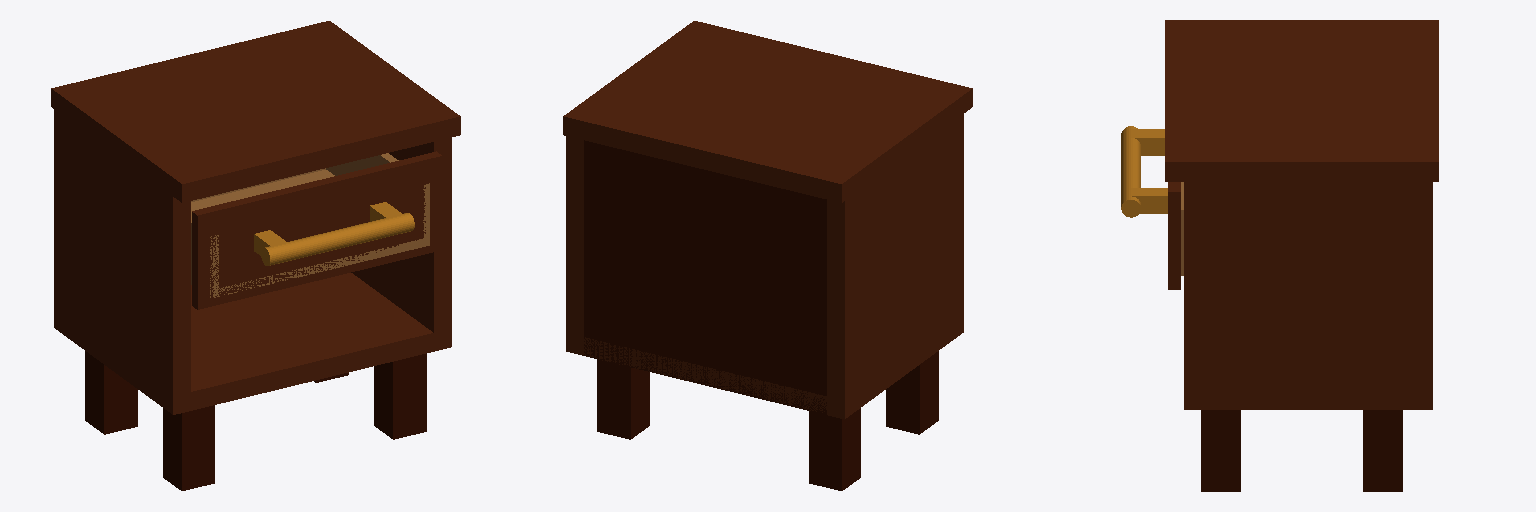
URDF robot description (single_drawer_bedside_cabinet_080):
<?xml version="1.0"?>
<!--
Copyright (c) 2021-2026 DexForce Technology Co., Ltd.

Licensed under the Apache License, Version 2.0 (the "License");
you may not use this file except in compliance with the License.
You may obtain a copy of the License at

    http://www.apache.org/licenses/LICENSE-2.0

Unless required by applicable law or agreed to in writing, software
distributed under the License is distributed on an "AS IS" BASIS,
WITHOUT WARRANTIES OR CONDITIONS OF ANY KIND, either express or implied.
See the License for the specific language governing permissions and
limitations under the License.
-->
<!-- Derived from Drawer/model_split_links_with_inertials.urdf; uniform 0.8 scale
     is baked into geometry, origins, prismatic limits and inertias. -->
<robot name="single_drawer_bedside_cabinet_080">
  <material name="walnut">
    <color rgba="0.34 0.16 0.075 1" />
  </material>
  <material name="walnut_edge">
    <color rgba="0.24 0.095 0.038 1" />
  </material>
  <material name="drawer_inside">
    <color rgba="0.61 0.43 0.25 1" />
  </material>
  <material name="matte_brass">
    <color rgba="0.72 0.49 0.16 1" />
  </material>
  <material name="rail_steel">
    <color rgba="0.28 0.3 0.31 1" />
  </material>
  <link name="cabinet">
    <inertial>
      <origin xyz="-2.545768e-18 0.02649432 0.2864608" rpy="0 0 0" />
      <mass value="0.1" />
      <inertia ixx="0.003087104" ixy="1.8333888e-19" ixz="-9.96192e-19" iyy="0.0043922688" iyz="1.3445696e-05" izz="0.0034588096" />
    </inertial>
  </link>
  <link name="drawer">
    <inertial>
      <origin xyz="0 0.0988808 -0.02205384" rpy="0 0 0" />
      <mass value="0.1" />
      <inertia ixx="0.0011696448" ixy="2.8627328e-22" ixz="3.5896e-20" iyy="0.0014591552" iyz="8.812928e-05" izz="0.0023881024" />
    </inertial>
  </link>
  <joint name="cabinet_to_drawer" type="prismatic">
    <origin xyz="0 -0.164 0.356" rpy="0 0 0" />
    <parent link="cabinet" />
    <child link="drawer" />
    <axis xyz="0 -1 0" />
    <limit effort="90" velocity="0.28" lower="0" upper="0.228" />
    <dynamics damping="2" friction="1" />
  </joint>
  <link name="top">
    <visual name="top">
      <origin xyz="0 0 0" rpy="0 0 0" />
      <geometry>
        <box size="0.432 0.352 0.028" />
      </geometry>
      <material name="walnut" />
    </visual>
    <collision name="top">
      <origin xyz="0 0 0" rpy="0 0 0" />
      <geometry>
        <box size="0.432 0.352 0.028" />
      </geometry>
    </collision>
    <inertial>
      <origin rpy="0 0 0" xyz="0 0 0" />
      <mass value="0.1" />
      <inertia ixx="0.00103906666667" ixy="0" ixz="0" iyy="0.00156173333333" iyz="0" izz="0.00258773333333" />
    </inertial>
  </link>
  <joint name="cabinet_to_top_fixed" type="fixed">
    <origin xyz="0 0 0.466" rpy="0 0 0" />
    <parent link="cabinet" />
    <child link="top" />
  </joint>
  <link name="side_0">
    <visual name="side_0">
      <origin xyz="0 0 0" rpy="0 0 0" />
      <geometry>
        <box size="0.028 0.32 0.324" />
      </geometry>
      <material name="walnut" />
    </visual>
    <collision name="side_0">
      <origin xyz="0 0 0" rpy="0 0 0" />
      <geometry>
        <box size="0.028 0.32 0.324" />
      </geometry>
    </collision>
    <inertial>
      <origin rpy="0 0 0" xyz="0 0 0" />
      <mass value="0.1" />
      <inertia ixx="0.00172813333333" ixy="0" ixz="0" iyy="0.000881333333331" iyz="0" izz="0.000859866666669" />
    </inertial>
  </link>
  <joint name="cabinet_to_side_0_fixed" type="fixed">
    <origin xyz="-0.202 0.008 0.29" rpy="0 0 0" />
    <parent link="cabinet" />
    <child link="side_0" />
  </joint>
  <link name="side_1">
    <visual name="side_1">
      <origin xyz="0 0 0" rpy="0 0 0" />
      <geometry>
        <box size="0.028 0.32 0.324" />
      </geometry>
      <material name="walnut" />
    </visual>
    <collision name="side_1">
      <origin xyz="0 0 0" rpy="0 0 0" />
      <geometry>
        <box size="0.028 0.32 0.324" />
      </geometry>
    </collision>
    <inertial>
      <origin rpy="0 0 0" xyz="0 0 0" />
      <mass value="0.1" />
      <inertia ixx="0.00172813333333" ixy="0" ixz="0" iyy="0.000881333333331" iyz="0" izz="0.000859866666669" />
    </inertial>
  </link>
  <joint name="cabinet_to_side_1_fixed" type="fixed">
    <origin xyz="0.202 0.008 0.29" rpy="0 0 0" />
    <parent link="cabinet" />
    <child link="side_1" />
  </joint>
  <link name="back">
    <visual name="back">
      <origin xyz="0 0 0" rpy="0 0 0" />
      <geometry>
        <box size="0.376 0.02 0.324" />
      </geometry>
      <material name="walnut_edge" />
    </visual>
    <collision name="back">
      <origin xyz="0 0 0" rpy="0 0 0" />
      <geometry>
        <box size="0.376 0.02 0.324" />
      </geometry>
    </collision>
    <inertial>
      <origin rpy="0 0 0" xyz="0 0 0" />
      <mass value="0.1" />
      <inertia ixx="0.000878133333331" ixy="0" ixz="0" iyy="0.00205293333333" iyz="0" izz="0.00118146666667" />
    </inertial>
  </link>
  <joint name="cabinet_to_back_fixed" type="fixed">
    <origin xyz="0 0.158 0.29" rpy="0 0 0" />
    <parent link="cabinet" />
    <child link="back" />
  </joint>
  <link name="base_shelf">
    <visual name="base_shelf">
      <origin xyz="0 0 0" rpy="0 0 0" />
      <geometry>
        <box size="0.376 0.32 0.028" />
      </geometry>
      <material name="walnut" />
    </visual>
    <collision name="base_shelf">
      <origin xyz="0 0 0" rpy="0 0 0" />
      <geometry>
        <box size="0.376 0.32 0.028" />
      </geometry>
    </collision>
    <inertial>
      <origin rpy="0 0 0" xyz="0 0 0" />
      <mass value="0.1" />
      <inertia ixx="0.000859866666669" ixy="0" ixz="0" iyy="0.00118466666667" iyz="0" izz="0.00203146666667" />
    </inertial>
  </link>
  <joint name="cabinet_to_base_shelf_fixed" type="fixed">
    <origin xyz="0 0.008 0.142" rpy="0 0 0" />
    <parent link="cabinet" />
    <child link="base_shelf" />
  </joint>
  <link name="foot_0">
    <visual name="foot_0">
      <origin xyz="0 0 0" rpy="0 0 0" />
      <geometry>
        <box size="0.052 0.052 0.128" />
      </geometry>
      <material name="walnut_edge" />
    </visual>
    <collision name="foot_0">
      <origin xyz="0 0 0" rpy="0 0 0" />
      <geometry>
        <box size="0.052 0.052 0.128" />
      </geometry>
    </collision>
    <inertial>
      <origin rpy="0 0 0" xyz="0 0 0" />
      <mass value="0.1" />
      <inertia ixx="0.000159066666667" ixy="0" ixz="0" iyy="0.000159066666667" iyz="0" izz="4.50666666667e-05" />
    </inertial>
  </link>
  <joint name="cabinet_to_foot_0_fixed" type="fixed">
    <origin xyz="-0.164 -0.104 0.064" rpy="0 0 0" />
    <parent link="cabinet" />
    <child link="foot_0" />
  </joint>
  <link name="foot_1">
    <visual name="foot_1">
      <origin xyz="0 0 0" rpy="0 0 0" />
      <geometry>
        <box size="0.052 0.052 0.128" />
      </geometry>
      <material name="walnut_edge" />
    </visual>
    <collision name="foot_1">
      <origin xyz="0 0 0" rpy="0 0 0" />
      <geometry>
        <box size="0.052 0.052 0.128" />
      </geometry>
    </collision>
    <inertial>
      <origin rpy="0 0 0" xyz="0 0 0" />
      <mass value="0.1" />
      <inertia ixx="0.000159066666667" ixy="0" ixz="0" iyy="0.000159066666667" iyz="0" izz="4.50666666667e-05" />
    </inertial>
  </link>
  <joint name="cabinet_to_foot_1_fixed" type="fixed">
    <origin xyz="0.164 -0.104 0.064" rpy="0 0 0" />
    <parent link="cabinet" />
    <child link="foot_1" />
  </joint>
  <link name="foot_2">
    <visual name="foot_2">
      <origin xyz="0 0 0" rpy="0 0 0" />
      <geometry>
        <box size="0.052 0.052 0.128" />
      </geometry>
      <material name="walnut_edge" />
    </visual>
    <collision name="foot_2">
      <origin xyz="0 0 0" rpy="0 0 0" />
      <geometry>
        <box size="0.052 0.052 0.128" />
      </geometry>
    </collision>
    <inertial>
      <origin rpy="0 0 0" xyz="0 0 0" />
      <mass value="0.1" />
      <inertia ixx="0.000159066666667" ixy="0" ixz="0" iyy="0.000159066666667" iyz="0" izz="4.50666666667e-05" />
    </inertial>
  </link>
  <joint name="cabinet_to_foot_2_fixed" type="fixed">
    <origin xyz="-0.164 0.104 0.064" rpy="0 0 0" />
    <parent link="cabinet" />
    <child link="foot_2" />
  </joint>
  <link name="foot_3">
    <visual name="foot_3">
      <origin xyz="0 0 0" rpy="0 0 0" />
      <geometry>
        <box size="0.052 0.052 0.128" />
      </geometry>
      <material name="walnut_edge" />
    </visual>
    <collision name="foot_3">
      <origin xyz="0 0 0" rpy="0 0 0" />
      <geometry>
        <box size="0.052 0.052 0.128" />
      </geometry>
    </collision>
    <inertial>
      <origin rpy="0 0 0" xyz="0 0 0" />
      <mass value="0.1" />
      <inertia ixx="0.000159066666667" ixy="0" ixz="0" iyy="0.000159066666667" iyz="0" izz="4.50666666667e-05" />
    </inertial>
  </link>
  <joint name="cabinet_to_foot_3_fixed" type="fixed">
    <origin xyz="0.164 0.104 0.064" rpy="0 0 0" />
    <parent link="cabinet" />
    <child link="foot_3" />
  </joint>
  <link name="runner_0">
    <visual name="runner_0">
      <origin xyz="0 0 0" rpy="0 0 0" />
      <geometry>
        <box size="0.0192 0.248 0.02" />
      </geometry>
      <material name="rail_steel" />
    </visual>
    <collision name="runner_0">
      <origin xyz="0 0 0" rpy="0 0 0" />
      <geometry>
        <box size="0.0192 0.248 0.02" />
      </geometry>
    </collision>
    <inertial>
      <origin rpy="0 0 0" xyz="0 0 0" />
      <mass value="0.1" />
      <inertia ixx="0.000515866666667" ixy="0" ixz="0" iyy="6.40533333331e-06" iyz="0" izz="0.000515605333333" />
    </inertial>
  </link>
  <joint name="cabinet_to_runner_0_fixed" type="fixed">
    <origin xyz="-0.1784 0.02 0.292" rpy="0 0 0" />
    <parent link="cabinet" />
    <child link="runner_0" />
  </joint>
  <link name="runner_1">
    <visual name="runner_1">
      <origin xyz="0 0 0" rpy="0 0 0" />
      <geometry>
        <box size="0.0192 0.248 0.02" />
      </geometry>
      <material name="rail_steel" />
    </visual>
    <collision name="runner_1">
      <origin xyz="0 0 0" rpy="0 0 0" />
      <geometry>
        <box size="0.0192 0.248 0.02" />
      </geometry>
    </collision>
    <inertial>
      <origin rpy="0 0 0" xyz="0 0 0" />
      <mass value="0.1" />
      <inertia ixx="0.000515866666667" ixy="0" ixz="0" iyy="6.40533333331e-06" iyz="0" izz="0.000515605333333" />
    </inertial>
  </link>
  <joint name="cabinet_to_runner_1_fixed" type="fixed">
    <origin xyz="0.1784 0.02 0.292" rpy="0 0 0" />
    <parent link="cabinet" />
    <child link="runner_1" />
  </joint>
  <link name="drawer_front">
    <visual name="drawer_front">
      <origin xyz="0 0 0" rpy="0 0 0" />
      <geometry>
        <box size="0.38 0.016 0.14" />
      </geometry>
      <material name="walnut" />
    </visual>
    <collision name="drawer_front">
      <origin xyz="0 0 0" rpy="0 0 0" />
      <geometry>
        <box size="0.38 0.016 0.14" />
      </geometry>
    </collision>
    <inertial>
      <origin rpy="0 0 0" xyz="0 0 0" />
      <mass value="0.1" />
      <inertia ixx="0.000165466666667" ixy="0" ixz="0" iyy="0.00136666666667" iyz="0" izz="0.00120546666667" />
    </inertial>
  </link>
  <joint name="drawer_to_drawer_front_fixed" type="fixed">
    <origin xyz="0 0 0" rpy="0 0 0" />
    <parent link="drawer" />
    <child link="drawer_front" />
  </joint>
  <link name="drawer_bottom">
    <visual name="drawer_bottom">
      <origin xyz="0 0 0" rpy="0 0 0" />
      <geometry>
        <box size="0.34 0.268 0.0128" />
      </geometry>
      <material name="drawer_inside" />
    </visual>
    <collision name="drawer_bottom">
      <origin xyz="0 0 0" rpy="0 0 0" />
      <geometry>
        <box size="0.34 0.268 0.0128" />
      </geometry>
    </collision>
    <inertial>
      <origin rpy="0 0 0" xyz="0 0 0" />
      <mass value="0.1" />
      <inertia ixx="0.000599898666667" ixy="0" ixz="0" iyy="0.000964698666669" iyz="0" izz="0.00156186666667" />
    </inertial>
  </link>
  <joint name="drawer_to_drawer_bottom_fixed" type="fixed">
    <origin xyz="0 0.126 -0.052" rpy="0 0 0" />
    <parent link="drawer" />
    <child link="drawer_bottom" />
  </joint>
  <link name="drawer_side_0">
    <visual name="drawer_side_0">
      <origin xyz="0 0 0" rpy="0 0 0" />
      <geometry>
        <box size="0.0128 0.268 0.092" />
      </geometry>
      <material name="drawer_inside" />
    </visual>
    <collision name="drawer_side_0">
      <origin xyz="0 0 0" rpy="0 0 0" />
      <geometry>
        <box size="0.0128 0.268 0.092" />
      </geometry>
    </collision>
    <inertial>
      <origin rpy="0 0 0" xyz="0 0 0" />
      <mass value="0.1" />
      <inertia ixx="0.000669066666669" ixy="0" ixz="0" iyy="7.18986666669e-05" iyz="0" izz="0.000599898666667" />
    </inertial>
  </link>
  <joint name="drawer_to_drawer_side_0_fixed" type="fixed">
    <origin xyz="-0.1636 0.126 -0.012" rpy="0 0 0" />
    <parent link="drawer" />
    <child link="drawer_side_0" />
  </joint>
  <link name="drawer_side_1">
    <visual name="drawer_side_1">
      <origin xyz="0 0 0" rpy="0 0 0" />
      <geometry>
        <box size="0.0128 0.268 0.092" />
      </geometry>
      <material name="drawer_inside" />
    </visual>
    <collision name="drawer_side_1">
      <origin xyz="0 0 0" rpy="0 0 0" />
      <geometry>
        <box size="0.0128 0.268 0.092" />
      </geometry>
    </collision>
    <inertial>
      <origin rpy="0 0 0" xyz="0 0 0" />
      <mass value="0.1" />
      <inertia ixx="0.000669066666669" ixy="0" ixz="0" iyy="7.18986666669e-05" iyz="0" izz="0.000599898666667" />
    </inertial>
  </link>
  <joint name="drawer_to_drawer_side_1_fixed" type="fixed">
    <origin xyz="0.1636 0.126 -0.012" rpy="0 0 0" />
    <parent link="drawer" />
    <child link="drawer_side_1" />
  </joint>
  <link name="drawer_back">
    <visual name="drawer_back">
      <origin xyz="0 0 0" rpy="0 0 0" />
      <geometry>
        <box size="0.34 0.0128 0.092" />
      </geometry>
      <material name="drawer_inside" />
    </visual>
    <collision name="drawer_back">
      <origin xyz="0 0 0" rpy="0 0 0" />
      <geometry>
        <box size="0.34 0.0128 0.092" />
      </geometry>
    </collision>
    <inertial>
      <origin rpy="0 0 0" xyz="0 0 0" />
      <mass value="0.1" />
      <inertia ixx="7.18986666669e-05" ixy="0" ixz="0" iyy="0.00103386666667" iyz="0" izz="0.000964698666669" />
    </inertial>
  </link>
  <joint name="drawer_to_drawer_back_fixed" type="fixed">
    <origin xyz="0 0.2536 -0.012" rpy="0 0 0" />
    <parent link="drawer" />
    <child link="drawer_back" />
  </joint>
  <link name="large_handle_bar">
    <visual name="large_handle_bar">
      <origin xyz="0 0 0" rpy="0 0 0" />
      <geometry>
        <cylinder radius="0.0128" length="0.224" />
      </geometry>
      <material name="matte_brass" />
      <interact type="translate" />
    </visual>
    <collision name="large_handle_bar">
      <origin xyz="0 0 0" rpy="0 0 0" />
      <geometry>
        <cylinder radius="0.0128" length="0.224" />
      </geometry>
    </collision>
    <inertial>
      <origin rpy="0 0 0" xyz="0 0 0" />
      <mass value="0.1" />
      <inertia ixx="0.000422203098836" ixy="0" ixz="0" iyy="0.000422203098836" iyz="0" izz="8.1395310057e-06" />
    </inertial>
  </link>
  <joint name="drawer_to_large_handle_bar_fixed" type="fixed">
    <origin xyz="0 -0.056 0.0096" rpy="0 1.5708 0" />
    <parent link="drawer" />
    <child link="large_handle_bar" />
  </joint>
  <link name="handle_mount_0">
    <visual name="handle_mount_0">
      <origin xyz="0 0 0" rpy="0 0 0" />
      <geometry>
        <box size="0.0256 0.052 0.0256" />
      </geometry>
      <material name="matte_brass" />
    </visual>
    <collision name="handle_mount_0">
      <origin xyz="0 0 0" rpy="0 0 0" />
      <geometry>
        <box size="0.0256 0.052 0.0256" />
      </geometry>
    </collision>
    <inertial>
      <origin rpy="0 0 0" xyz="0 0 0" />
      <mass value="0.1" />
      <inertia ixx="2.79946666667e-05" ixy="0" ixz="0" iyy="1.09226666667e-05" iyz="0" izz="2.79946666667e-05" />
    </inertial>
  </link>
  <joint name="drawer_to_handle_mount_0_fixed" type="fixed">
    <origin xyz="-0.0896 -0.03 0.0096" rpy="0 0 0" />
    <parent link="drawer" />
    <child link="handle_mount_0" />
  </joint>
  <link name="handle_mount_1">
    <visual name="handle_mount_1">
      <origin xyz="0 0 0" rpy="0 0 0" />
      <geometry>
        <box size="0.0256 0.052 0.0256" />
      </geometry>
      <material name="matte_brass" />
    </visual>
    <collision name="handle_mount_1">
      <origin xyz="0 0 0" rpy="0 0 0" />
      <geometry>
        <box size="0.0256 0.052 0.0256" />
      </geometry>
    </collision>
    <inertial>
      <origin rpy="0 0 0" xyz="0 0 0" />
      <mass value="0.1" />
      <inertia ixx="2.79946666667e-05" ixy="0" ixz="0" iyy="1.09226666667e-05" iyz="0" izz="2.79946666667e-05" />
    </inertial>
  </link>
  <joint name="drawer_to_handle_mount_1_fixed" type="fixed">
    <origin xyz="0.0896 -0.03 0.0096" rpy="0 0 0" />
    <parent link="drawer" />
    <child link="handle_mount_1" />
  </joint>
</robot>

--- Render facts (derived) ---
The picture shows the robot from 3 angles, left to right: view 1: azimuth 30°, elevation 25°; view 2: azimuth 150°, elevation 25°; view 3: azimuth 270°, elevation 25°; orthographic projection.
Robot: single_drawer_bedside_cabinet_080 — 21 links, 20 joints (1 prismatic, 19 fixed); root link cabinet; default pose: every joint at zero.
Visible links, largest first — view 1: top, side_0, base_shelf, drawer_front, side_1, foot_1, foot_0, foot_2, large_handle_bar, drawer_bottom, drawer_side_1; view 2: back, top, side_0, side_1, foot_2, foot_3, foot_0, base_shelf; view 3: side_1, top, foot_1, foot_3, large_handle_bar, drawer_front, handle_mount_1, handle_mount_0.
Link boxes in pixels (x1=…): top: x1=51, y1=21, x2=460, y2=202; side_0: x1=54, y1=110, x2=190, y2=414; base_shelf: x1=191, y1=273, x2=433, y2=410; drawer_front: x1=192, y1=151, x2=441, y2=309; side_1: x1=351, y1=138, x2=451, y2=351; foot_1: x1=374, y1=353, x2=426, y2=439; foot_0: x1=163, y1=405, x2=214, y2=490; foot_2: x1=85, y1=351, x2=137, y2=434; large_handle_bar: x1=261, y1=213, x2=414, y2=265; drawer_bottom: x1=191, y1=170, x2=429, y2=296; drawer_side_1: x1=326, y1=153, x2=429, y2=241; back: x1=584, y1=140, x2=826, y2=414; top: x1=563, y1=21, x2=972, y2=202; side_0: x1=827, y1=114, x2=963, y2=419; side_1: x1=566, y1=136, x2=583, y2=355; foot_2: x1=809, y1=408, x2=860, y2=490; foot_3: x1=597, y1=359, x2=649, y2=439; foot_0: x1=886, y1=351, x2=938, y2=434; base_shelf: x1=584, y1=337, x2=826, y2=412; side_1: x1=1184, y1=182, x2=1432, y2=409; top: x1=1165, y1=20, x2=1438, y2=181; foot_1: x1=1201, y1=410, x2=1240, y2=491; foot_3: x1=1363, y1=410, x2=1402, y2=491; large_handle_bar: x1=1121, y1=126, x2=1140, y2=217; drawer_front: x1=1168, y1=182, x2=1180, y2=289; handle_mount_1: x1=1131, y1=188, x2=1167, y2=213; handle_mount_0: x1=1131, y1=129, x2=1164, y2=155.
Bounding box of the posed robot: 0.432 × 0.4088 × 0.48 m (x, y, z).
Geometry: primitives only (box / cylinder / sphere), no mesh files.
